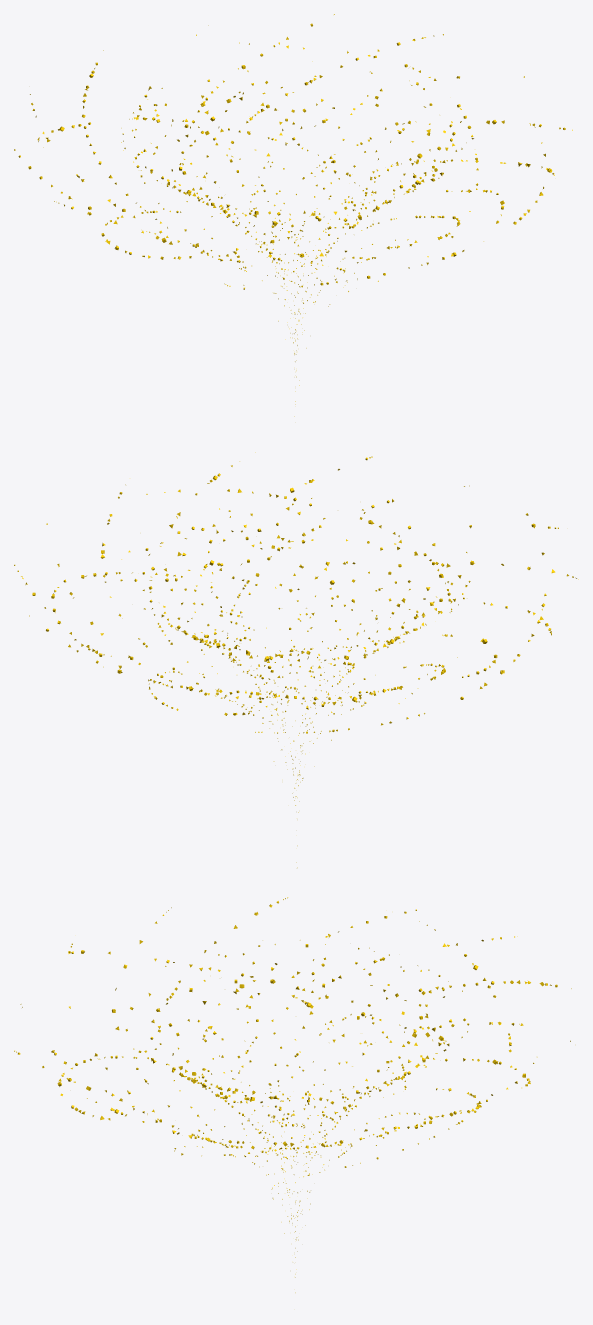
File: watch_v06_2_small.gltf
3 renders of one model, top to bottom at view 1: azimuth 30°, elevation 25°; view 2: azimuth 150°, elevation 25°; view 3: azimuth 270°, elevation 25°, orthographic. The views are drawn at different scales.
Visible parts, largest first — view 1: Geom; view 2: Geom; view 3: Geom.
Boxes of the visible parts, <box> form: Geom: <box>14,14,572,416</box>; Geom: <box>14,452,578,867</box>; Geom: <box>14,897,571,1292</box>.
Size of the model in its own units: 6.22 by 3.64 by 6.18.
